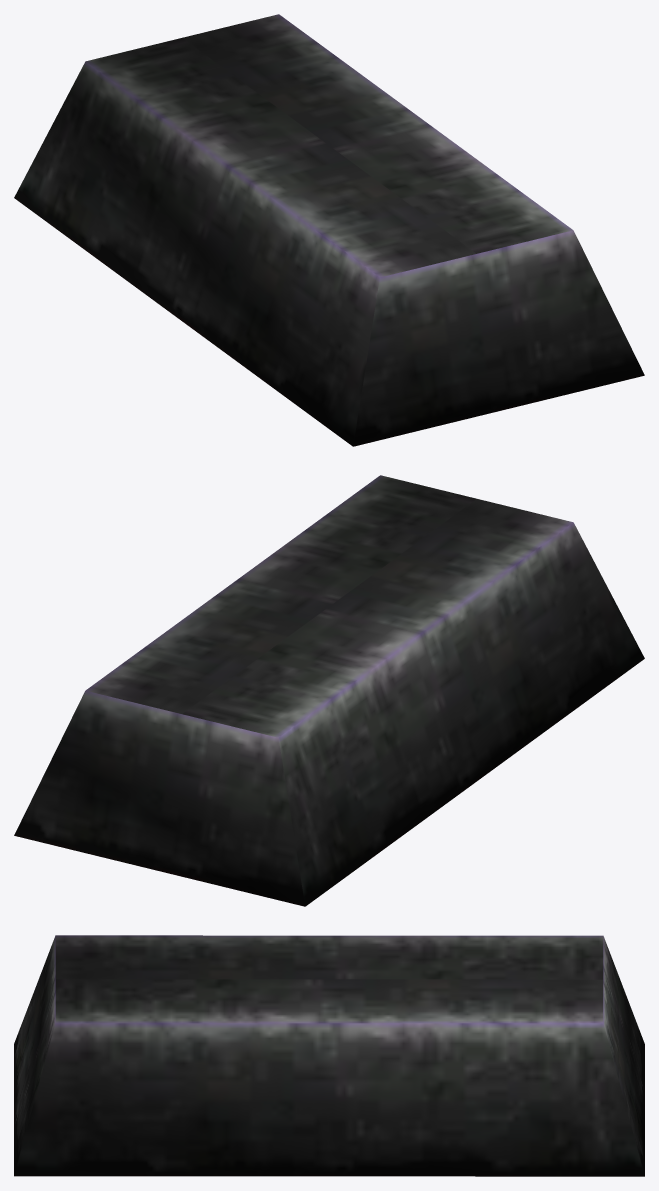
The model's file is SYN_BLACK_BAR.glb.
3 views of the same model, one above another, from view 1: azimuth 30°, elevation 25°; view 2: azimuth 150°, elevation 25°; view 3: azimuth 270°, elevation 25° (orthographic). The views are drawn at different scales.
Parts seen in each view (by area): view 1: Mesh; view 2: Mesh; view 3: Mesh.
Boxes of the visible parts, x1=… form: Mesh: x1=14, y1=14, x2=644, y2=446; Mesh: x1=14, y1=475, x2=644, y2=906; Mesh: x1=14, y1=935, x2=644, y2=1176.
Size of the model in its own units: 0.1875 by 0.0864 by 0.3774.
Materials: 1 (1 with a texture image).
